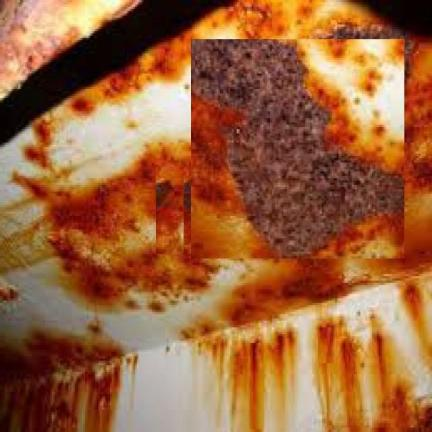karat: (0, 0, 431, 431), (193, 42, 394, 241), (0, 363, 122, 431), (329, 24, 413, 76)
